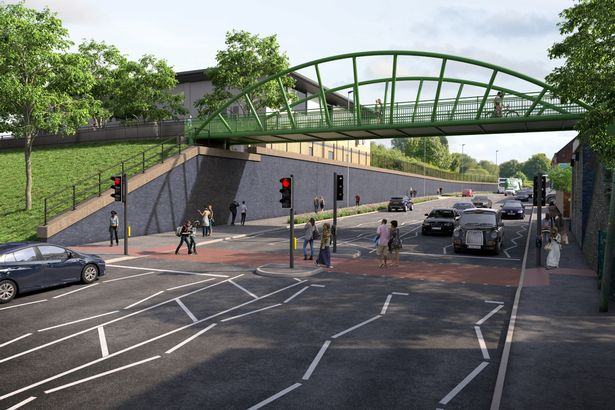bridge: (171, 45, 585, 136)
